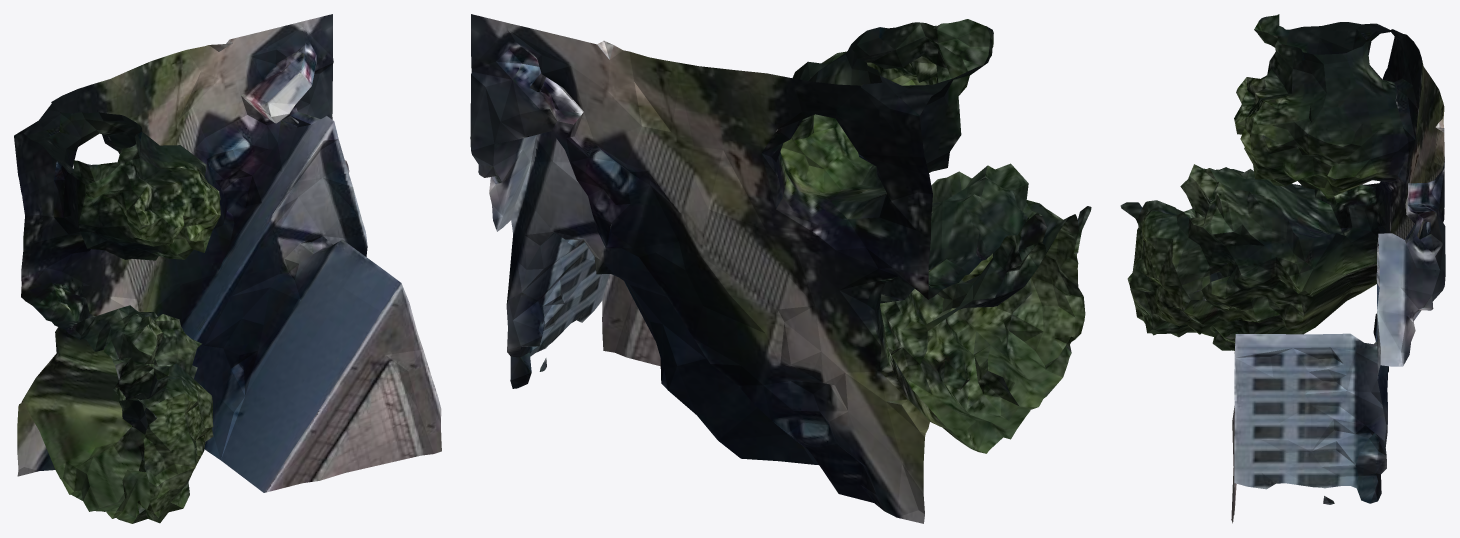
File: Tile_+032_+024_L19_000001.obj
The picture shows the model from 3 angles, left to right: view 1: azimuth 30°, elevation 25°; view 2: azimuth 150°, elevation 25°; view 3: azimuth 270°, elevation 25°; orthographic projection. The views are drawn at different scales.
Size of the model in its own units: 31.75 by 31.5 by 26.75.
1 material, 1 textured.
